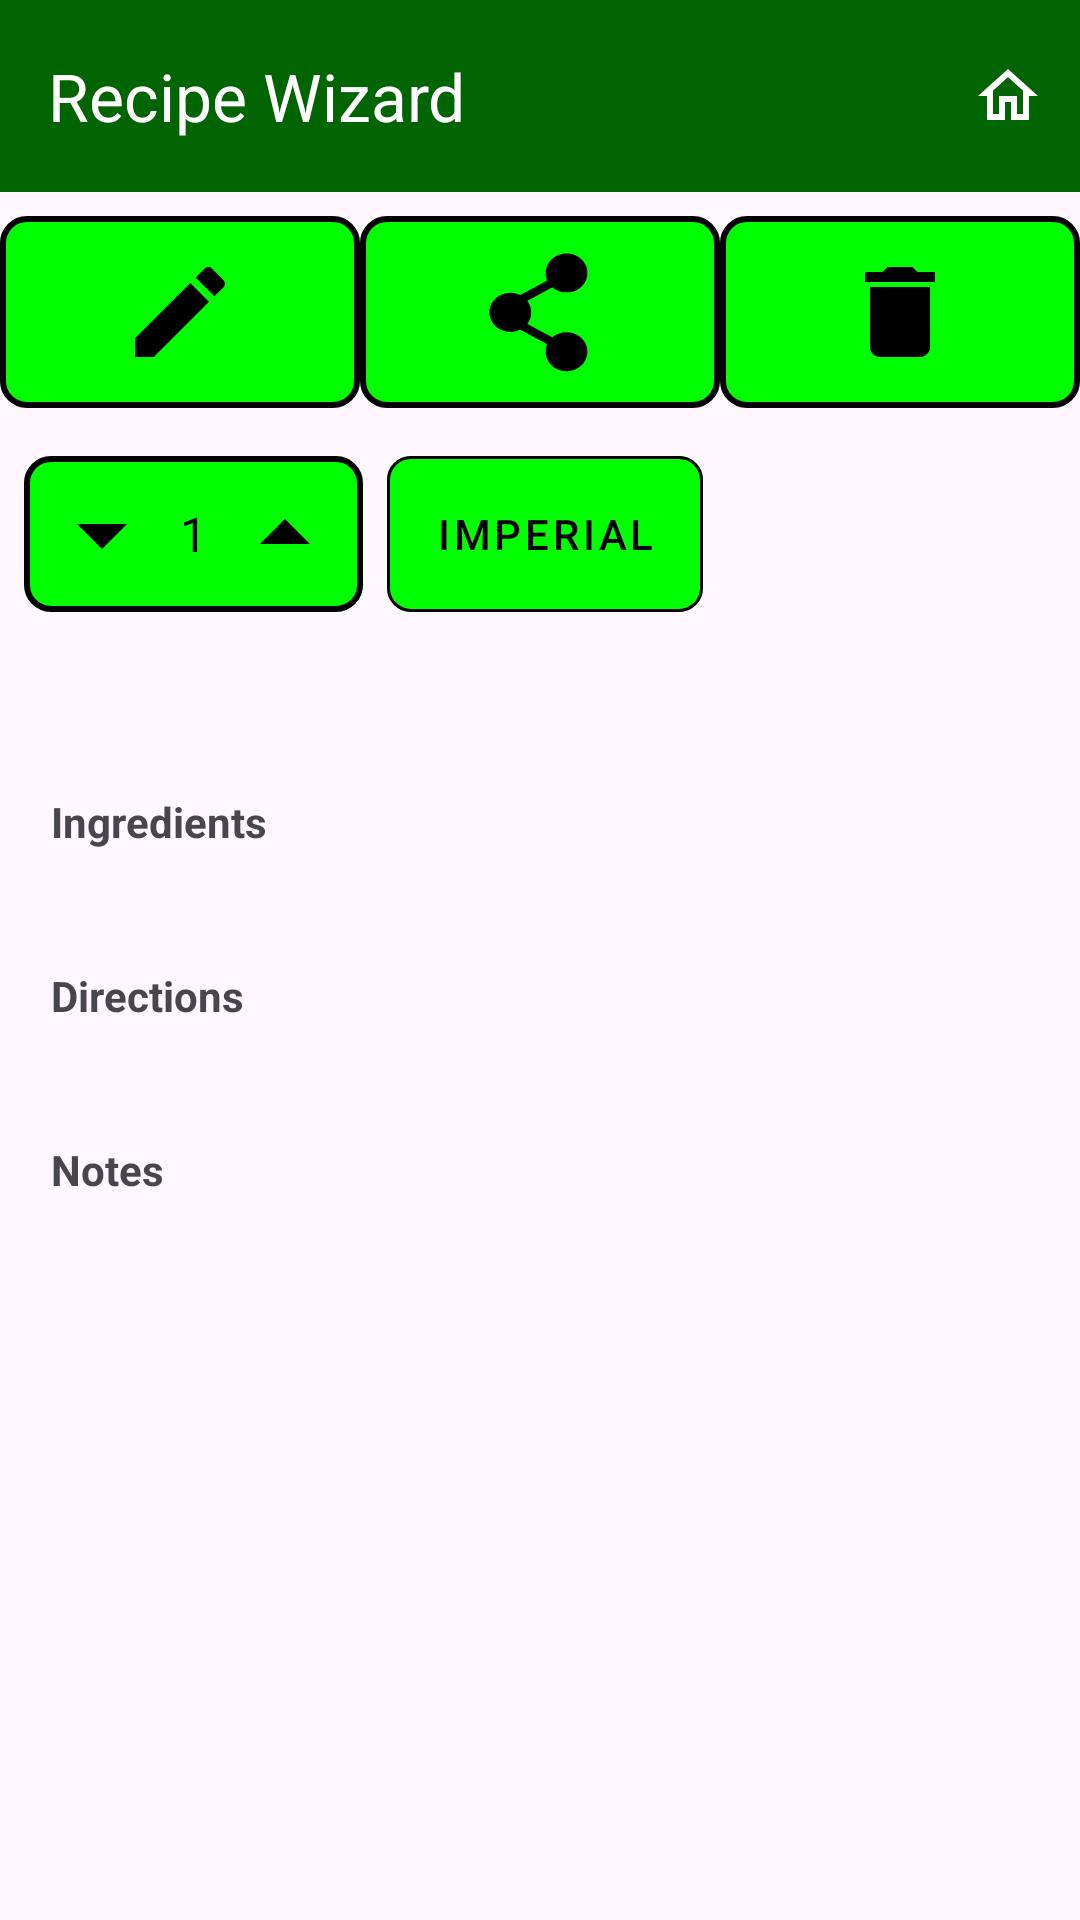

Icon click points for this 1080*1920 phone screenshot, format (x,y):
Decrement servings: (102,536)
Delete Recipe: (900,312)
Edit Recipe: (180,312)
Increment servings: (285,531)
Share Recipe: (540,312)
